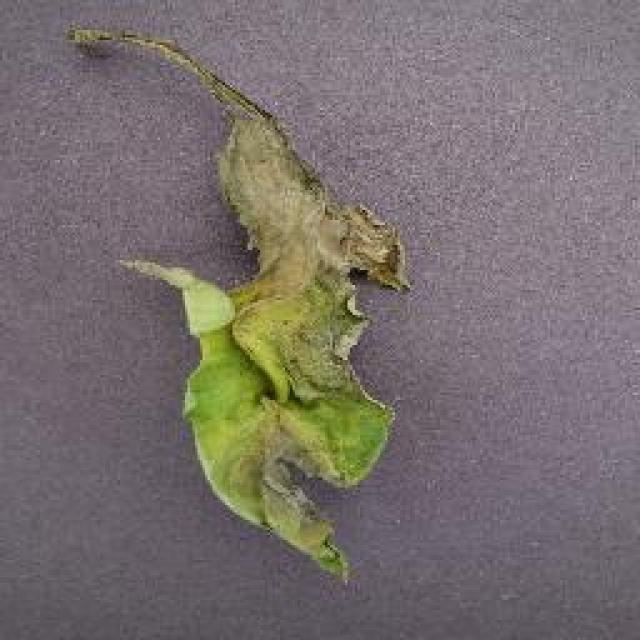Tomato___Late_blight: (72, 30, 412, 582)
